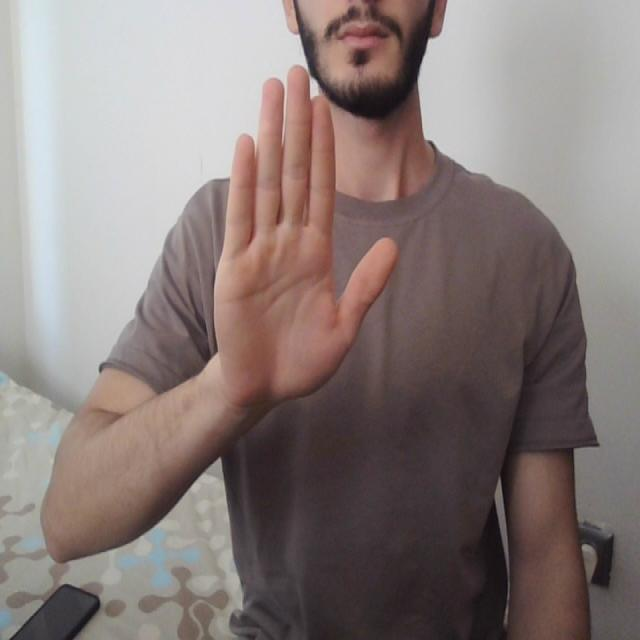Dur: (202, 58, 408, 413)
